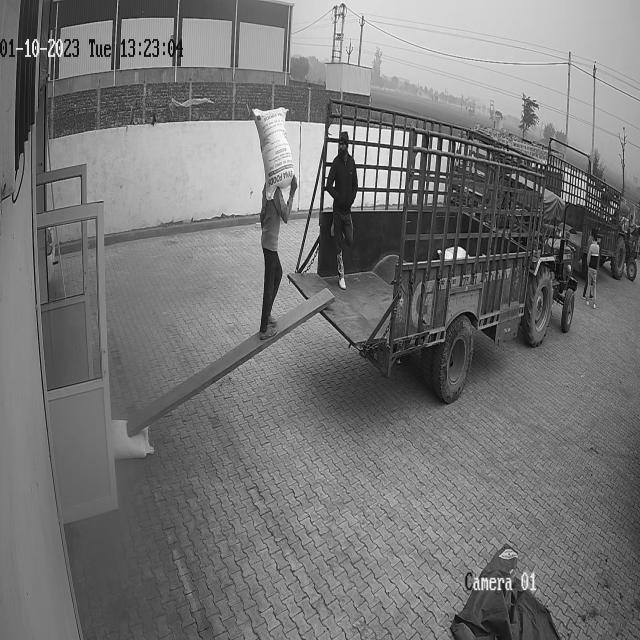sack: (251, 108, 294, 201), (112, 419, 153, 460)
